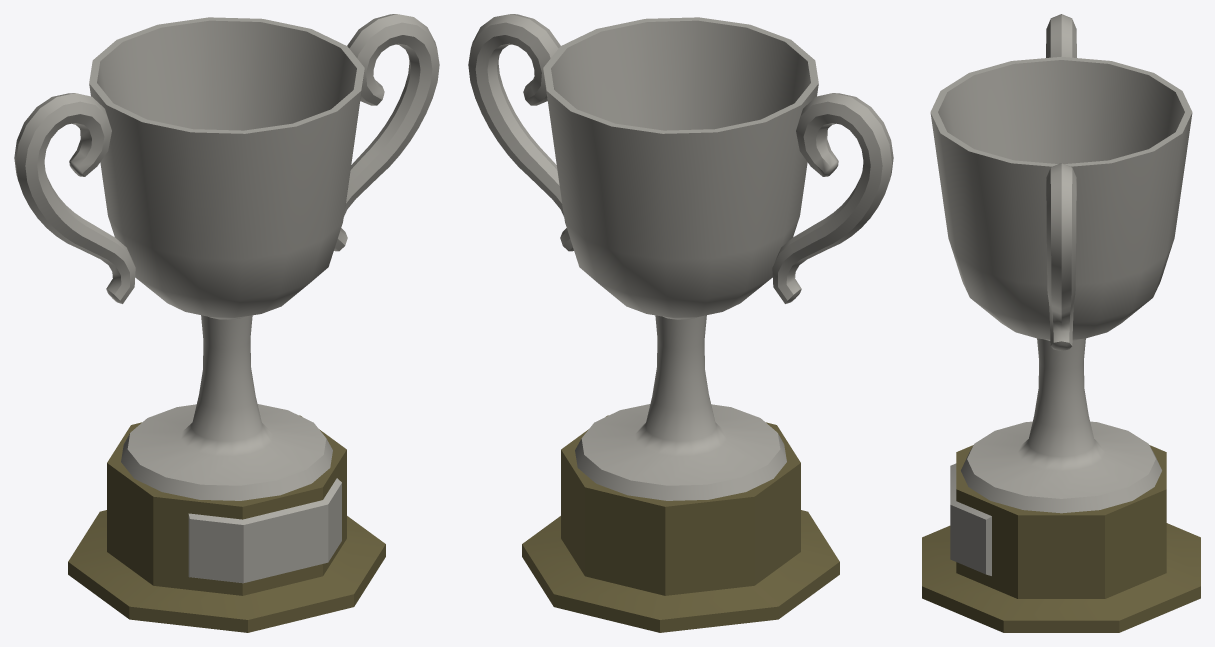
The model's file is SM_Trophy_Silver.fbx.
The picture shows the model from 3 angles, left to right: view 1: azimuth 30°, elevation 25°; view 2: azimuth 150°, elevation 25°; view 3: azimuth 270°, elevation 25°; orthographic projection. The views are drawn at different scales.
Visible parts, largest first — view 1: SM_Trophy_Silver; view 2: SM_Trophy_Silver; view 3: SM_Trophy_Silver.
Boxes of the visible parts, <box> form: SM_Trophy_Silver: <box>14,14,439,632</box>; SM_Trophy_Silver: <box>468,14,893,632</box>; SM_Trophy_Silver: <box>922,14,1200,632</box>.
Size of the model in its own units: 55.93 by 64.6 by 33.97.
